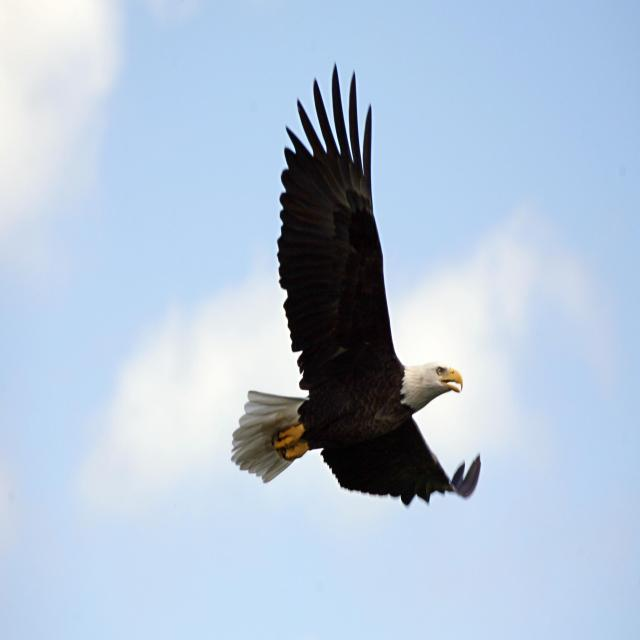bird: (210, 70, 492, 522)
